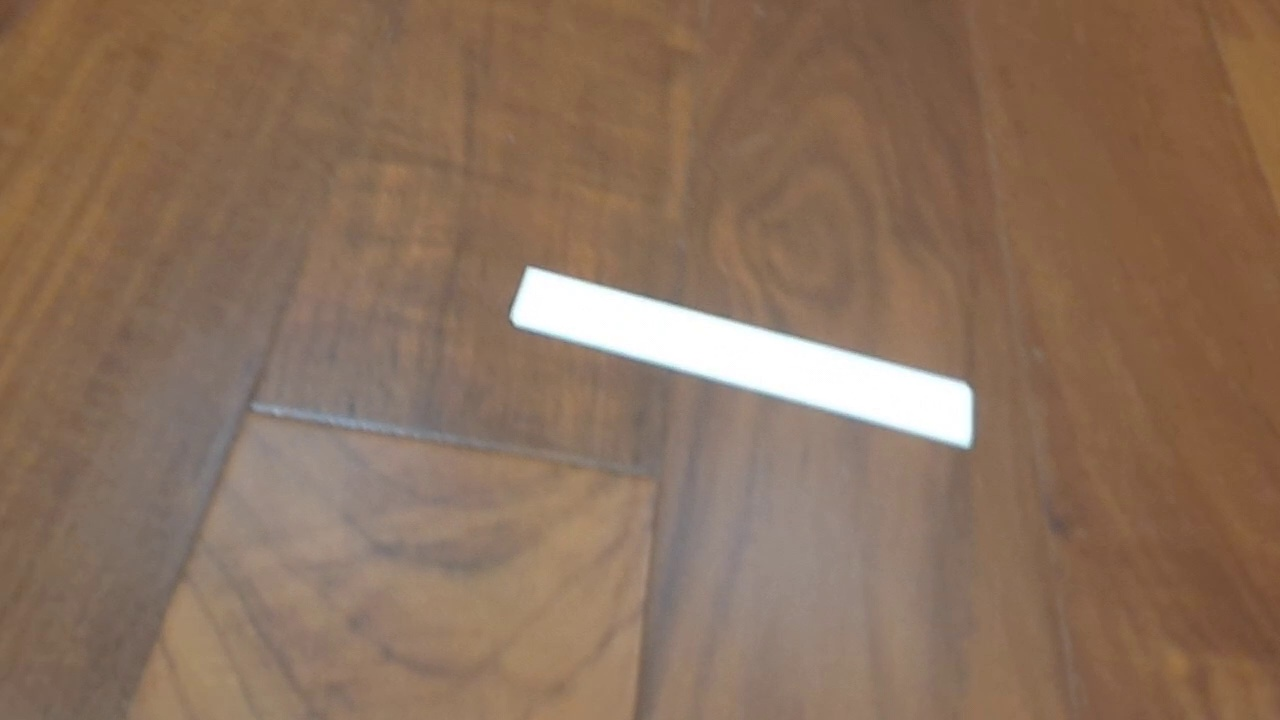ruler: (506, 262, 977, 451)
